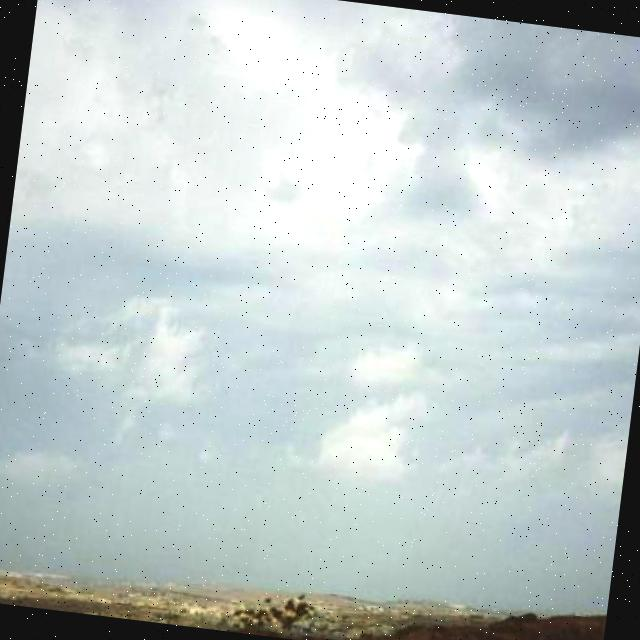St: (1, 1, 640, 561)
